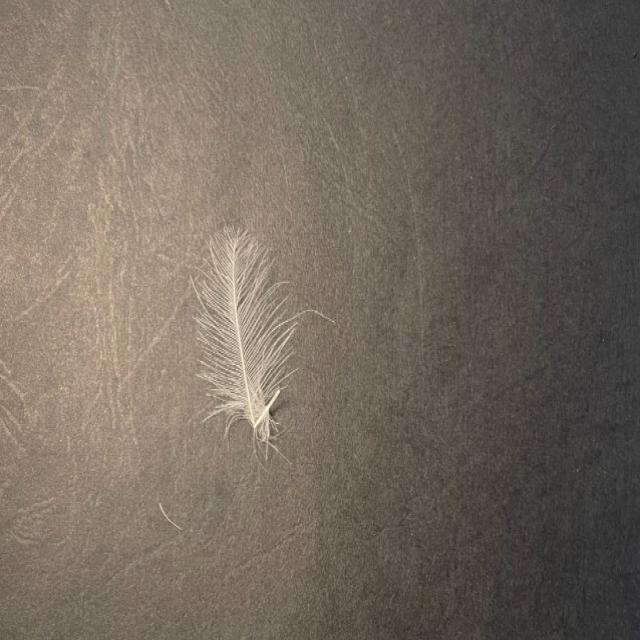feather: (179, 218, 303, 460)
